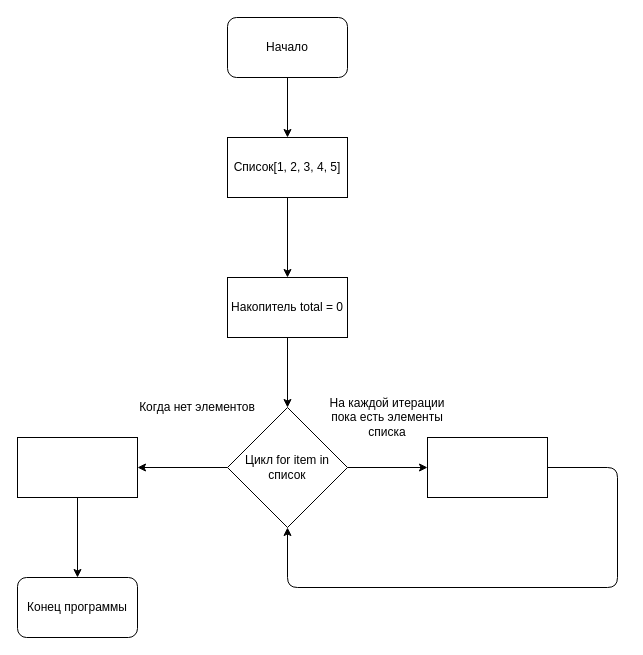
Image size: 643x655. Some labels were removed from this diagram. The box of each missing label's shape, as (x1, y1, x2, y2) in pixels:
print(total): (16, 436, 138, 498)
total += item item = значению из списка: (426, 436, 548, 498)
